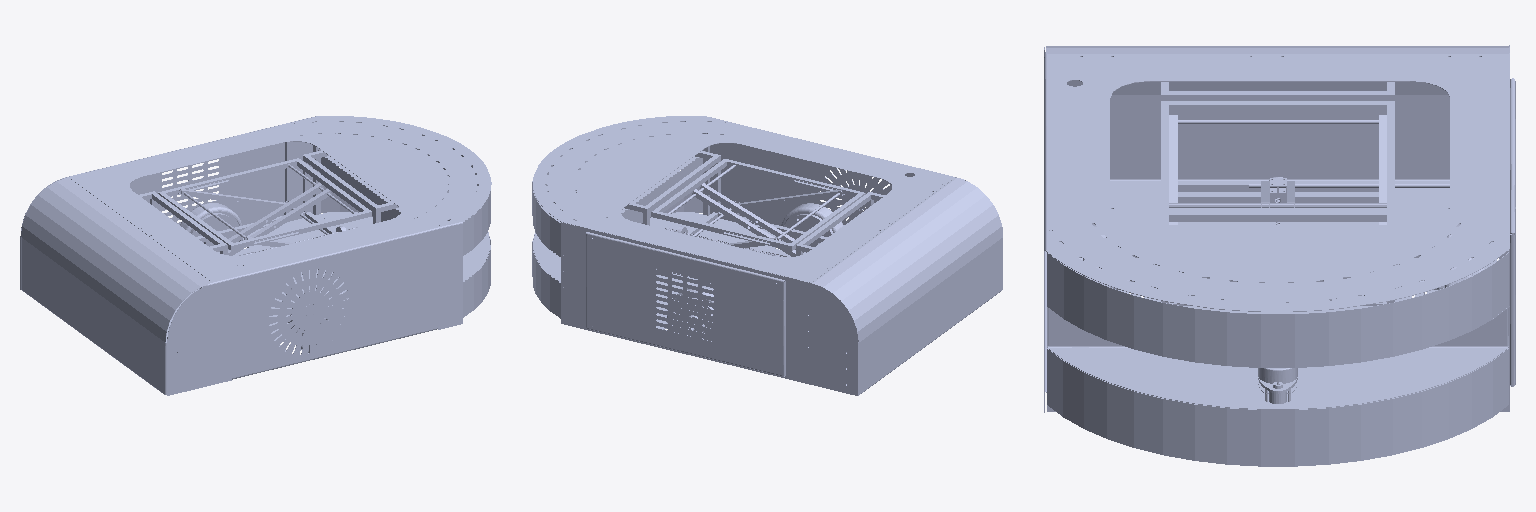
URDF robot description (agv_urdf):
<?xml version="1.0" encoding="utf-8"?>
<!-- This URDF was automatically created by SolidWorks to URDF Exporter! Originally created by [author] ([email redacted]) 
     Commit Version: 1.6.0-1-g15f4949  Build Version: 1.6.7594.29634
     For more information, please see http://wiki.ros.org/sw_urdf_exporter -->
<robot
  name="agv_urdf"> 
  <link name="base_footprint">
    <inertial>
      <mass value="0.0001"/>
      <origin xyz="0 0 0"/>
      <inertia ixx="0.0001" ixy="0.0" ixz="0.0" iyy="0.0001" iyz="0.0" izz="0.0001"/>
    </inertial>
    <visual>
      <origin rpy="0 0 0" xyz="0 0 0"/>
      <geometry>
        <box size="0.001 0.001 0.001"/>
      </geometry>
    </visual>
  </link>
  <gazebo reference="base_footprint">
    <turnGravityOff>false</turnGravityOff>
  </gazebo>
  <joint name="base_footprint_joint" type="fixed">
    <origin rpy="0 0 0" xyz="0 0 0.04"/>
    <parent link="base_footprint"/>
    <child link="base_link"/>
  </joint>
  <link
    name="base_link">
    <inertial>
      <origin
        xyz="0.132045383534134 0.063963351552983 -0.0581721503603184"
        rpy="0 0 0" />
      <mass
        value="7.26784274164816" />
      <inertia
        ixx="0.31541427151465"
        ixy="-0.0175087631598244"
        ixz="-0.0079986207581947"
        iyy="0.494504217650707"
        iyz="-0.0128087764417488"
        izz="0.768108498004563" />
    </inertial>
    <visual>
      <origin
        xyz="0 0 0"
        rpy="0 0 0" />
      <geometry>
        <mesh
          filename="package://agv_urdf/meshes/base_link.STL" />
      </geometry>
      <material
        name="">
        <color
          rgba="0.792156862745098 0.819607843137255 0.933333333333333 1" />
      </material>
    </visual>
    <collision>
      <origin
        xyz="0 0 0"
        rpy="0 0 0" />
      <geometry>
        <mesh
          filename="package://agv_urdf/meshes/base_link.STL" />
      </geometry>
    </collision>
  </link>
  <link
    name="left_wheel_Link">
    <inertial>
      <origin
        xyz="-2.62673152365278E-06 -0.0412889729735831 -1.41073002019459E-05"
        rpy="0 0 0" />
      <mass
        value="1.56548884810649" />
      <inertia
        ixx="0.00423832267606378"
        ixy="-8.488545327818E-09"
        ixz="1.83659241879323E-08"
        iyy="0.00813979274518364"
        iyz="-4.558832863947E-08"
        izz="0.00423841789608874" />
    </inertial>
    <visual>
      <origin
        xyz="0 0 0"
        rpy="0 0 0" />
      <geometry>
        <mesh
          filename="package://agv_urdf/meshes/left_wheel_Link.STL" />
      </geometry>
      <material
        name="">
        <color
          rgba="0.792156862745098 0.819607843137255 0.933333333333333 1" />
      </material>
    </visual>
    <collision>
      <origin
        xyz="0 0 0"
        rpy="0 0 0" />
      <geometry>
        <mesh
          filename="package://agv_urdf/meshes/left_wheel_Link.STL" />
      </geometry>
    </collision>
  </link>
  <joint
    name="left_wheel_joint"
    type="continuous">
    <origin
      xyz="0.067981 0.42391 -0.093032"
      rpy="0 0 0" />
    <parent
      link="base_link" />
    <child
      link="left_wheel_Link" />
    <axis
      xyz="0 1 0" />
    <limit
      effort="100"
      velocity="100" />
  </joint>
  <link
    name="right_wheel_Link">
    <inertial>
      <origin
        xyz="-1.43300041011429E-05 0.0412889729026101 7.52468855544364E-07"
        rpy="0 0 0" />
      <mass
        value="1.56548884562395" />
      <inertia
        ixx="0.00423842103471923"
        ixy="4.63081899357917E-08"
        ixz="-5.34485051087428E-09"
        iyy="0.0081397927451702"
        iyz="-2.43153144319968E-09"
        izz="0.00423831953681939" />
    </inertial>
    <visual>
      <origin
        xyz="0 0 0"
        rpy="0 0 0" />
      <geometry>
        <mesh
          filename="package://agv_urdf/meshes/right_wheel_Link.STL" />
      </geometry>
      <material
        name="">
        <color
          rgba="0.792156862745098 0.819607843137255 0.933333333333333 1" />
      </material>
    </visual>
    <collision>
      <origin
        xyz="0 0 0"
        rpy="0 0 0" />
      <geometry>
        <mesh
          filename="package://agv_urdf/meshes/right_wheel_Link.STL" />
      </geometry>
    </collision>
  </link>
  <joint
    name="right_wheel_joint"
    type="continuous">
    <origin
      xyz="0.067981 -0.30509 -0.093032"
      rpy="0 0 0" />
    <parent
      link="base_link" />
    <child
      link="right_wheel_Link" />
    <axis
      xyz="0 1 0" />
    <limit
      effort="100"
      velocity="100" />
  </joint>
  <link
    name="front_left_caster_Link">
    <inertial>
      <origin
        xyz="5.55111512312578E-17 0 -0.00365404114034665"
        rpy="0 0 0" />
      <mass
        value="0.0323077391460798" />
      <inertia
        ixx="5.90972470636113E-06"
        ixy="-2.91703779050341E-21"
        ixz="-3.23890594265899E-22"
        iyy="5.77286801929396E-06"
        iyz="-1.17497077975423E-21"
        izz="7.16658170897928E-06" />
    </inertial>
    <visual>
      <origin
        xyz="0 0 0"
        rpy="0 0 0" />
      <geometry>
        <mesh
          filename="package://agv_urdf/meshes/front_left_caster_Link.STL" />
      </geometry>
      <material
        name="">
        <color
          rgba="0.792156862745098 0.819607843137255 0.933333333333333 1" />
      </material>
    </visual>
    <collision>
      <origin
        xyz="0 0 0"
        rpy="0 0 0" />
      <geometry>
        <mesh
          filename="package://agv_urdf/meshes/front_left_caster_Link.STL" />
      </geometry>
    </collision>
  </link>
  <joint
    name="front_left_caster_joint"
    type="fixed">
    <origin
      xyz="0.46548 0.38941 -0.16933"
      rpy="0 0 0" />
    <parent
      link="base_link" />
    <child
      link="front_left_caster_Link" />
    <axis
      xyz="0 0 0" />
    <limit
      effort="100"
      velocity="100" />
  </joint>
  <link
    name="front_right_caster_Link">
    <inertial>
      <origin
        xyz="5.55111512312578E-17 -5.55111512312578E-17 -0.00365404114034668"
        rpy="0 0 0" />
      <mass
        value="0.0323077391460798" />
      <inertia
        ixx="5.90972470636097E-06"
        ixy="-1.73503171397529E-21"
        ixz="-1.04289008317598E-21"
        iyy="5.7728680192938E-06"
        iyz="-1.2568301181235E-21"
        izz="7.16658170897928E-06" />
    </inertial>
    <visual>
      <origin
        xyz="0 0 0"
        rpy="0 0 0" />
      <geometry>
        <mesh
          filename="package://agv_urdf/meshes/front_right_caster_Link.STL" />
      </geometry>
      <material
        name="">
        <color
          rgba="0.792156862745098 0.819607843137255 0.933333333333333 1" />
      </material>
    </visual>
    <collision>
      <origin
        xyz="0 0 0"
        rpy="0 0 0" />
      <geometry>
        <mesh
          filename="package://agv_urdf/meshes/front_right_caster_Link.STL" />
      </geometry>
    </collision>
  </link>
  <joint
    name="front_right_caster_joint"
    type="fixed">
    <origin
      xyz="0.46548 -0.26059 -0.16933"
      rpy="0 0 0" />
    <parent
      link="base_link" />
    <child
      link="front_right_caster_Link" />
    <axis
      xyz="0 0 0" />
  </joint>
  <link
    name="rear_right_caster_Link">
    <inertial>
      <origin
        xyz="0 0 -0.0036540411403447"
        rpy="0 0 0" />
      <mass
        value="0.0323077391460796" />
      <inertia
        ixx="5.90972470616638E-06"
        ixy="-1.72796565995862E-21"
        ixz="-1.29309203299317E-21"
        iyy="5.77286801909913E-06"
        iyz="-1.11038998885768E-21"
        izz="7.16658170897912E-06" />
    </inertial>
    <visual>
      <origin
        xyz="0 0 0"
        rpy="0 0 0" />
      <geometry>
        <mesh
          filename="package://agv_urdf/meshes/rear_right_caster_Link.STL" />
      </geometry>
      <material
        name="">
        <color
          rgba="0.792156862745098 0.819607843137255 0.933333333333333 1" />
      </material>
    </visual>
    <collision>
      <origin
        xyz="0 0 0"
        rpy="0 0 0" />
      <geometry>
        <mesh
          filename="package://agv_urdf/meshes/rear_right_caster_Link.STL" />
      </geometry>
    </collision>
  </link>
  <joint
    name="rear_right_caster_joint"
    type="fixed">
    <origin
      xyz="-0.33452 -0.26059 -0.17033"
      rpy="0 0 0" />
    <parent
      link="base_link" />
    <child
      link="rear_right_caster_Link" />
    <axis
      xyz="0 0 0" />
  </joint>
  <link
    name="rear_left_caster_Link">
    <inertial>
      <origin
        xyz="-5.55111512312578E-17 0 -0.00365404114034473"
        rpy="0 0 0" />
      <mass
        value="0.0323077391460795" />
      <inertia
        ixx="5.90972470616654E-06"
        ixy="-2.90411309343247E-21"
        ixz="-3.56727233768399E-22"
        iyy="5.77286801909929E-06"
        iyz="-7.65809672526223E-22"
        izz="7.16658170897912E-06" />
    </inertial>
    <visual>
      <origin
        xyz="0 0 0"
        rpy="0 0 0" />
      <geometry>
        <mesh
          filename="package://agv_urdf/meshes/rear_left_caster_Link.STL" />
      </geometry>
      <material
        name="">
        <color
          rgba="0.792156862745098 0.819607843137255 0.933333333333333 1" />
      </material>
    </visual>
    <collision>
      <origin
        xyz="0 0 0"
        rpy="0 0 0" />
      <geometry>
        <mesh
          filename="package://agv_urdf/meshes/rear_left_caster_Link.STL" />
      </geometry>
    </collision>
  </link>
  <joint
    name="rear_left_caster_joint"
    type="fixed">
    <origin
      xyz="-0.33452 0.38941 -0.17033"
      rpy="0 0 0" />
    <parent
      link="base_link" />
    <child
      link="rear_left_caster_Link" />
    <axis
      xyz="0 0 0" />
  </joint>
  <link
    name="lidar_Link">
    <inertial>
      <origin
        xyz="0.00676551479844789 -9.23258810868188E-05 -0.00728575153147776"
        rpy="0 0 0" />
      <mass
        value="1.32500692137328" />
      <inertia
        ixx="0.000608332242777079"
        ixy="-8.01860112627319E-07"
        ixz="0.000158213161725814"
        iyy="0.00095046388929787"
        iyz="-3.10338854918655E-06"
        izz="0.00108767494553941" />
    </inertial>
    <visual>
      <origin
        xyz="0 0 0"
        rpy="0 0 0" />
      <geometry>
        <mesh
          filename="package://agv_urdf/meshes/lidar_Link.STL" />
      </geometry>
      <material
        name="">
        <color
          rgba="0.792156862745098 0.819607843137255 0.933333333333333 1" />
      </material>
    </visual>
    <collision>
      <origin
        xyz="0 0 0"
        rpy="0 0 0" />
      <geometry>
        <mesh
          filename="package://agv_urdf/meshes/lidar_Link.STL" />
      </geometry>
    </collision>
  </link>
  <joint
    name="lidar_joint"
    type="fixed">
    <origin
      xyz="0.65498 0.059408 0.010118"
      rpy="0 0 0" />
    <parent
      link="base_link" />
    <child
      link="lidar_Link" />
    <axis
      xyz="0 0 0" />
  </joint>
  <link
    name="Imu_Link">
    <inertial>
      <origin
        xyz="0 0 -0.00165000000000004"
        rpy="0 0 0" />
      <mass
        value="0.00110069134909419" />
      <inertia
        ixx="2.48191009468013E-08"
        ixy="5.47860532088784E-23"
        ixz="1.64200698248597E-23"
        iyy="4.12498354468489E-08"
        iyz="-7.21895806185039E-25"
        izz="6.40711815950443E-08" />
    </inertial>
    <visual>
      <origin
        xyz="0 0 0"
        rpy="0 0 0" />
      <geometry>
        <mesh
          filename="package://agv_urdf/meshes/Imu_Link.STL" />
      </geometry>
      <material
        name="">
        <color
          rgba="0.792156862745098 0.819607843137255 0.933333333333333 1" />
      </material>
    </visual>
    <collision>
      <origin
        xyz="0 0 0"
        rpy="0 0 0" />
      <geometry>
        <mesh
          filename="package://agv_urdf/meshes/Imu_Link.STL" />
      </geometry>
    </collision>
  </link>
  <joint
    name="imu_joint"
    type="fixed">
    <origin
      xyz="0.0579809450729556 0.0529454335641019 -0.13193240051858"
      rpy="0 0 0" />
    <parent
      link="base_link" />
    <child
      link="Imu_Link" />
    <axis
      xyz="0 0 0" />
  </joint>
  
  <gazebo>
    <plugin name="differential_drive_controller" filename="libgazebo_ros_diff_drive.so">

      <!-- Plugin update rate in Hz -->
      <updateRate>50</updateRate>

      <!-- Name of left joint, defaults to `left_joint` -->
      <leftJoint>left_wheel_joint</leftJoint>

      <!-- Name of right joint, defaults to `right_joint` -->
      <rightJoint>right_wheel_joint</rightJoint>

      <!-- The distance from the center of one wheel to the other, in meters, defaults to 0.34 m -->
      <wheelSeparation>0.641</wheelSeparation>

      <!-- Diameter of the wheels, in meters, defaults to 0.15 m -->
      <wheelDiameter>0.203</wheelDiameter>

      <!-- Wheel acceleration, in rad/s^2, defaults to 0.0 rad/s^2 -->
      <wheelAcceleration>1.0</wheelAcceleration>

      <!-- Maximum torque which the wheels can produce, in Nm, defaults to 5 Nm -->
      <wheelTorque>20</wheelTorque>

      <!-- Topic to receive geometry_msgs/Twist message commands, defaults to `cmd_vel` -->
      <commandTopic>cmd_vel</commandTopic>

      <!-- Topic to publish nav_msgs/Odometry messages, defaults to `odom` -->
      <odometryTopic>odom</odometryTopic>

      <!-- Odometry frame, defaults to `odom` -->
      <odometryFrame>odom</odometryFrame>

      <!-- Robot frame to calculate odometry from, defaults to `base_footprint` -->
      <robotBaseFrame>base_footprint</robotBaseFrame>

      <!-- Odometry source, 0 for ENCODER, 1 for WORLD, defaults to WORLD -->
      <odometrySource>1</odometrySource>

      <!-- Set to true to publish transforms for the wheel links, defaults to false -->
      <publishWheelTF>true</publishWheelTF>

      <!-- Set to true to publish transforms for the odometry, defaults to true -->
      <publishOdom>true</publishOdom>

      <!-- Set to true to publish sensor_msgs/JointState on /joint_states for the wheel joints, defaults to false -->
      <publishWheelJointState>true</publishWheelJointState>

      <!-- Set to true to swap right and left wheels, defaults to true -->
      <legacyMode>false</legacyMode>
    </plugin>
  </gazebo>
  <gazebo reference="lidar_Link">
    <material>Gazebo/Blue</material>
    <turnGravityOff>true</turnGravityOff>
    <sensor type="ray" name="head_hokuyo_sensor">
      <pose>0 0 0 0 0</pose>
      <visualize>true</visualize>
      <update_rate>50</update_rate>
      <ray>
        <scan>
          <horizontal>
            <samples>720</samples>
            <resolution>1</resolution>
            <min_angle>-1.745329252 </min_angle>
            <max_angle>1.745329252 </max_angle>
          </horizontal>
        </scan>
        <range>
          <min>0.30</min>
          <max>8.0</max>
          <resolution>0.001</resolution>
        </range>
      </ray>
      <plugin name="gazebo_ros_head_hokuyo_controller" filename="libgazebo_ros_laser.so">
        <topicName>/scan</topicName>
        <frameName>lidar_Link</frameName>
      </plugin>
    </sensor>
  </gazebo>
<gazebo reference="base_link"> 
    <material>Gazebo/Red</material> 
  </gazebo>
</robot>

--- Render facts (derived) ---
Views: 3 orthographic renders of the robot side by side, from view 1: azimuth 30°, elevation 25°; view 2: azimuth 150°, elevation 25°; view 3: azimuth 270°, elevation 25°.
Robot: agv_urdf — 10 links, 9 joints (2 continuous, 7 fixed); root link base_footprint; default pose: all joints at 0.
Visible links, largest first — view 1: base_link, left_wheel_Link; view 2: base_link, right_wheel_Link, left_wheel_Link; view 3: base_link, lidar_Link.
Boxes of the visible links, <box> form: base_link: <box>20,116,491,395</box>; left_wheel_Link: <box>180,203,242,245</box>; base_link: <box>532,116,1002,395</box>; right_wheel_Link: <box>781,203,843,245</box>; left_wheel_Link: <box>667,286,713,341</box>; base_link: <box>1044,45,1515,466</box>; lidar_Link: <box>1258,368,1297,403</box>.
Size in the robot's own frame: 1.23 by 0.832 by 0.353 metres.
Meshes: 9 distinct files referenced, 7 mesh visuals loaded (7 binary STL); not drawn: 2 (reference not matched to a file when rendering).
